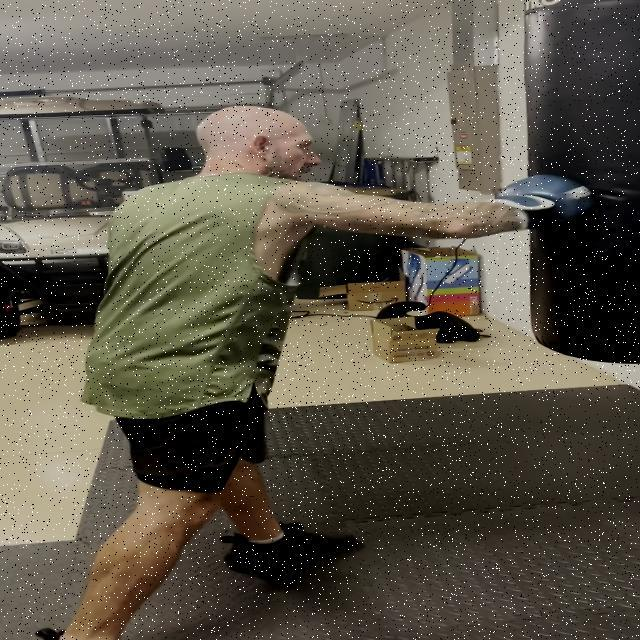bag: (518, 0, 640, 362)
cross: (103, 84, 605, 275)
